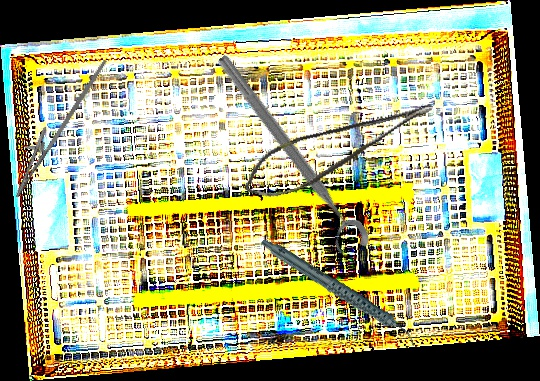Fixation Ring: (201, 50, 375, 263)
Handpiece: (259, 210, 420, 374)
Micro Scissor: (234, 96, 445, 208)
Needle Holder: (3, 45, 108, 207)
